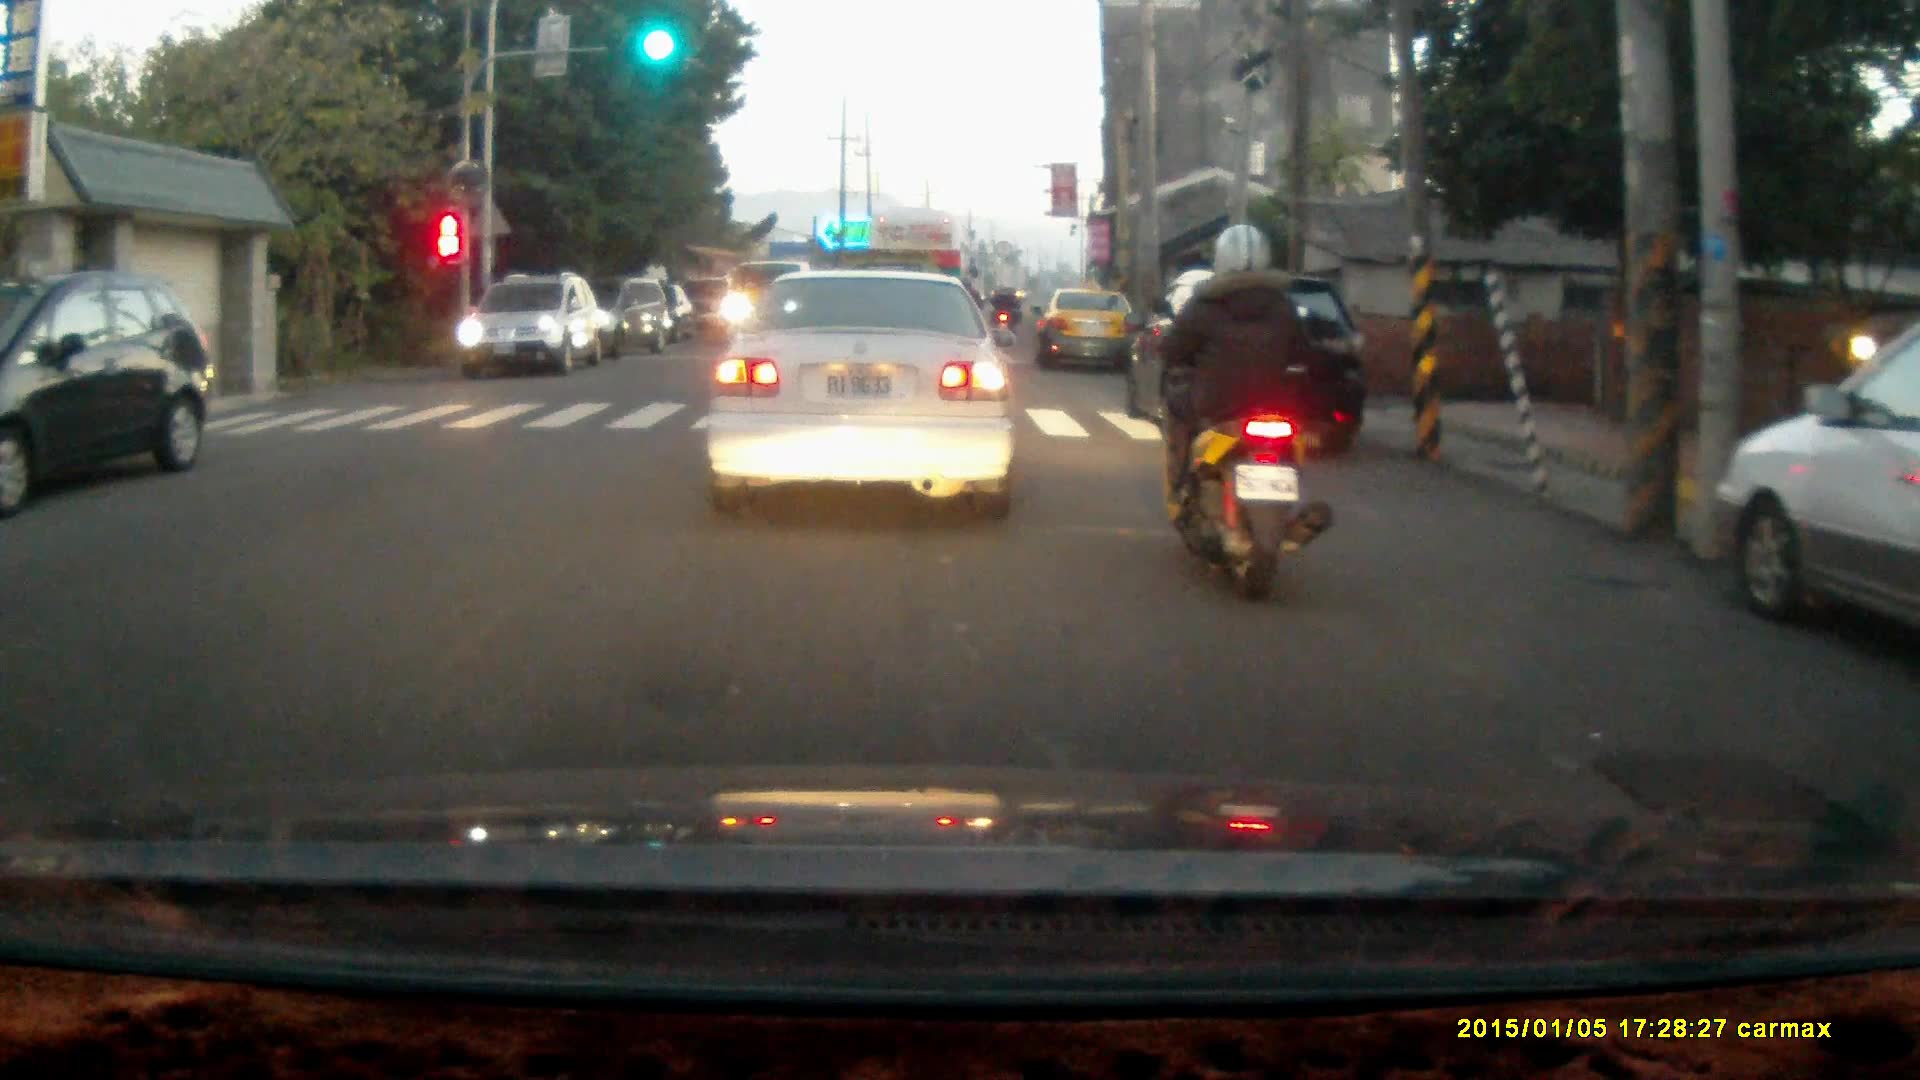rider: (1145, 221, 1337, 607)
vehicle: (699, 266, 1021, 524), (1716, 322, 1920, 642), (1, 273, 214, 506), (1119, 277, 1372, 462), (869, 210, 972, 359), (459, 279, 602, 382), (554, 278, 675, 366), (1035, 288, 1141, 377)
